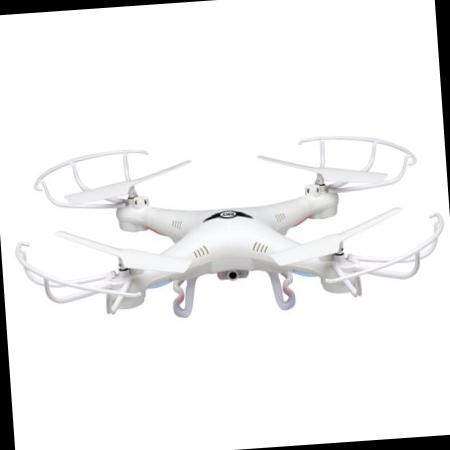drone: (0, 120, 450, 329)
